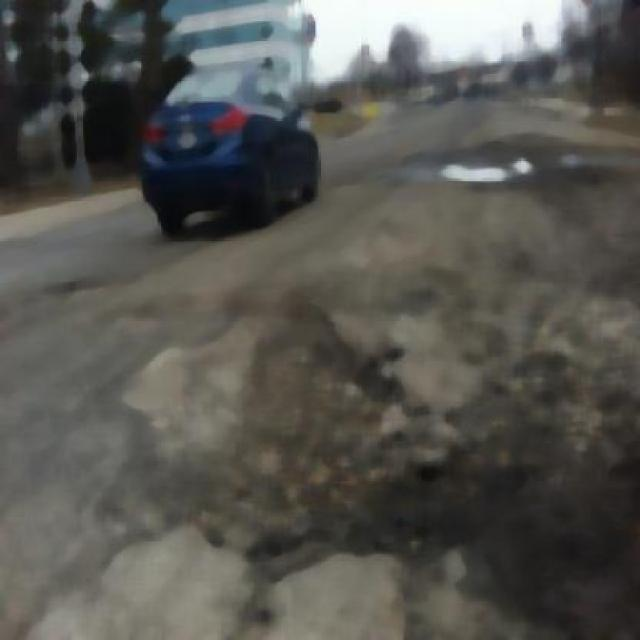Pothole: (261, 306, 382, 536), (434, 146, 532, 191)
